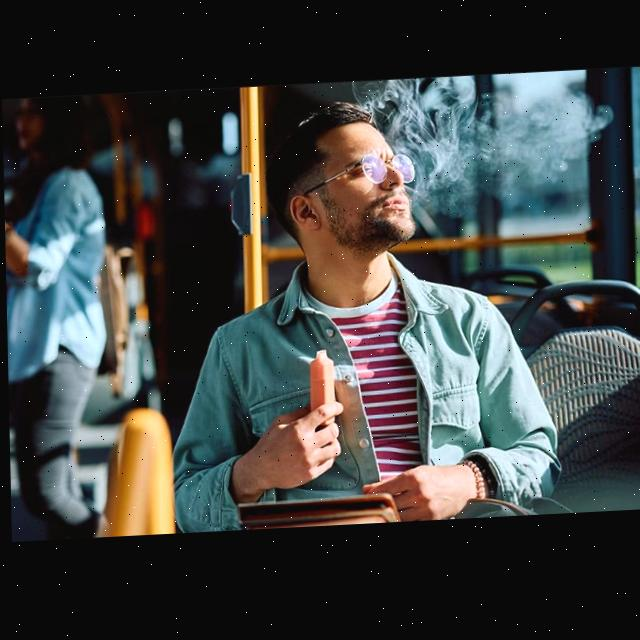vape: (307, 353, 333, 430)
